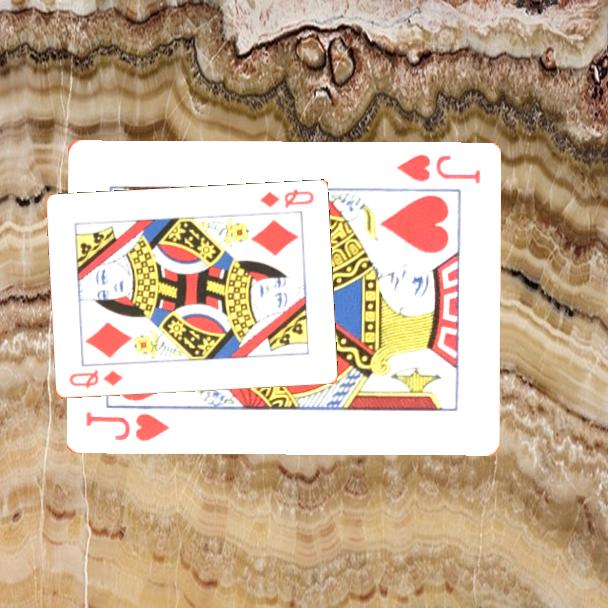d12: (65, 366, 125, 391), (256, 186, 316, 211)
h11: (82, 408, 172, 445), (392, 151, 482, 187)
